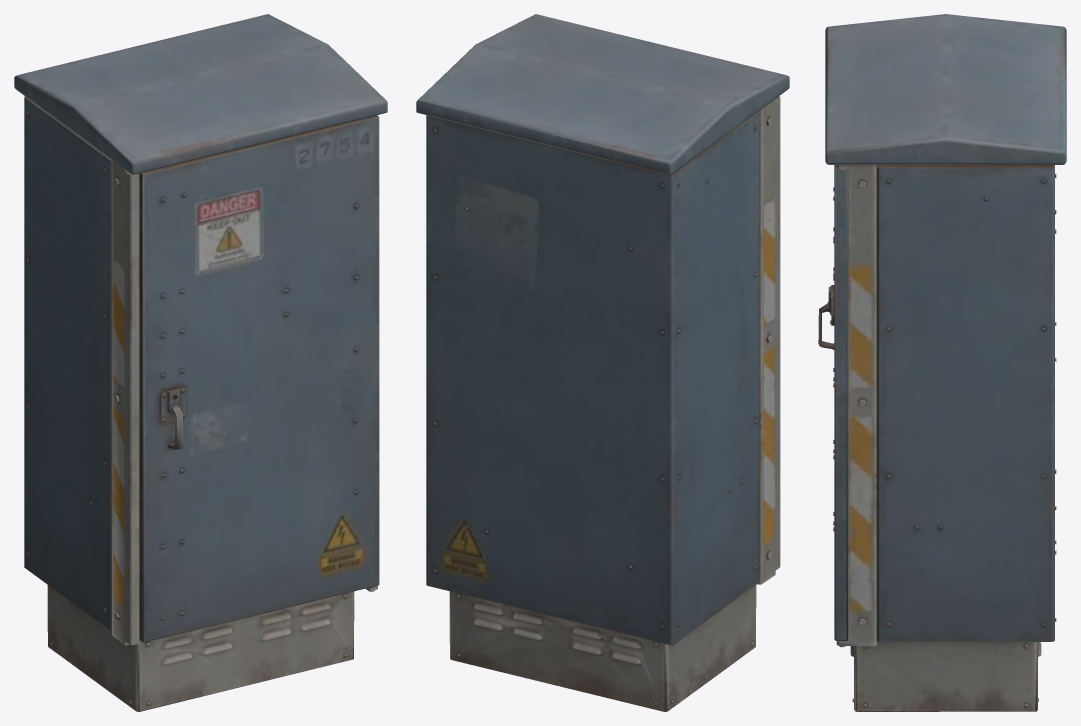
Rendered from utility_box_01.glb.
The picture shows the model from 3 angles, left to right: view 1: azimuth 30°, elevation 25°; view 2: azimuth 150°, elevation 25°; view 3: azimuth 270°, elevation 25°; orthographic projection.
Parts seen in each view (by area): view 1: utility_box_01_box; view 2: utility_box_01_box; view 3: utility_box_01_box.
Part boxes in pixels (x1,y1,x2,y2): utility_box_01_box: [14, 14, 387, 711]; utility_box_01_box: [416, 14, 789, 711]; utility_box_01_box: [818, 14, 1066, 711].
Bounding box in the file's own units: 0.52 × 1.12 × 0.4319.
Materials: 1 (1 with a texture image).
